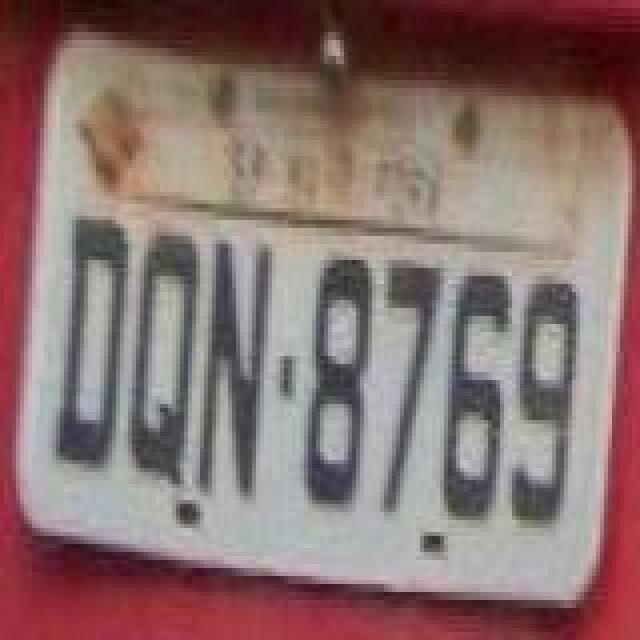6: (440, 266, 512, 526)
7: (380, 250, 444, 510)
8: (304, 250, 376, 510)
9: (508, 274, 580, 526)
D: (48, 210, 128, 470)
N: (202, 238, 278, 498)
Q: (132, 226, 204, 494)
